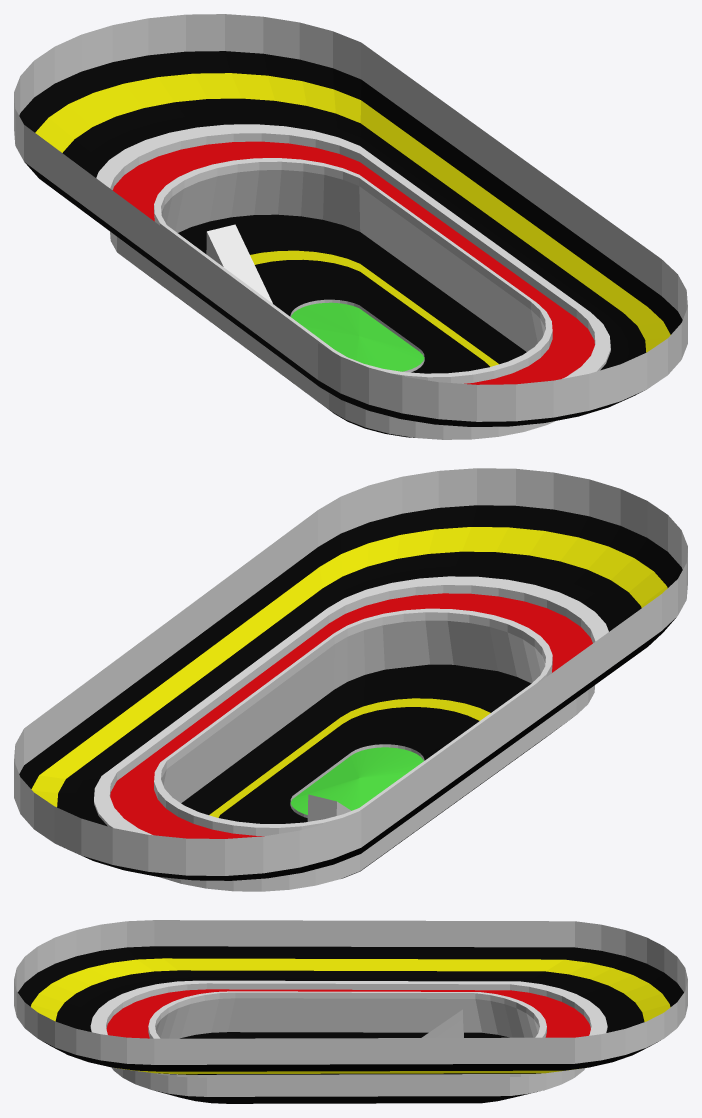
Rendered from racetrackone.fbx.
3 views of the same model, one above another, from view 1: azimuth 30°, elevation 25°; view 2: azimuth 150°, elevation 25°; view 3: azimuth 270°, elevation 25° (orthographic). The views are drawn at different scales.
Parts seen in each view (by area): view 1: Track One; view 2: Track One; view 3: Track One.
Part boxes in pixels (<box>): Track One: <box>14,14,687,439</box>; Track One: <box>14,468,687,891</box>; Track One: <box>14,920,687,1103</box>.
Size of the model in its own units: 15951 by 6296 by 38285.
